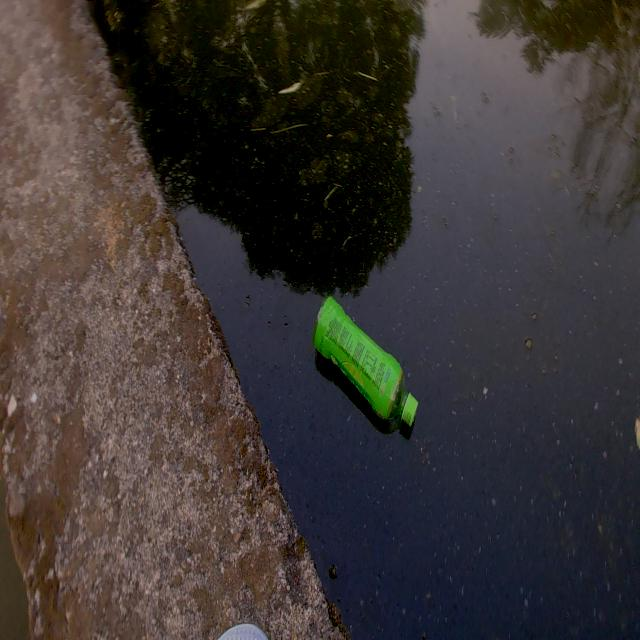bottle: (296, 287, 431, 456)
